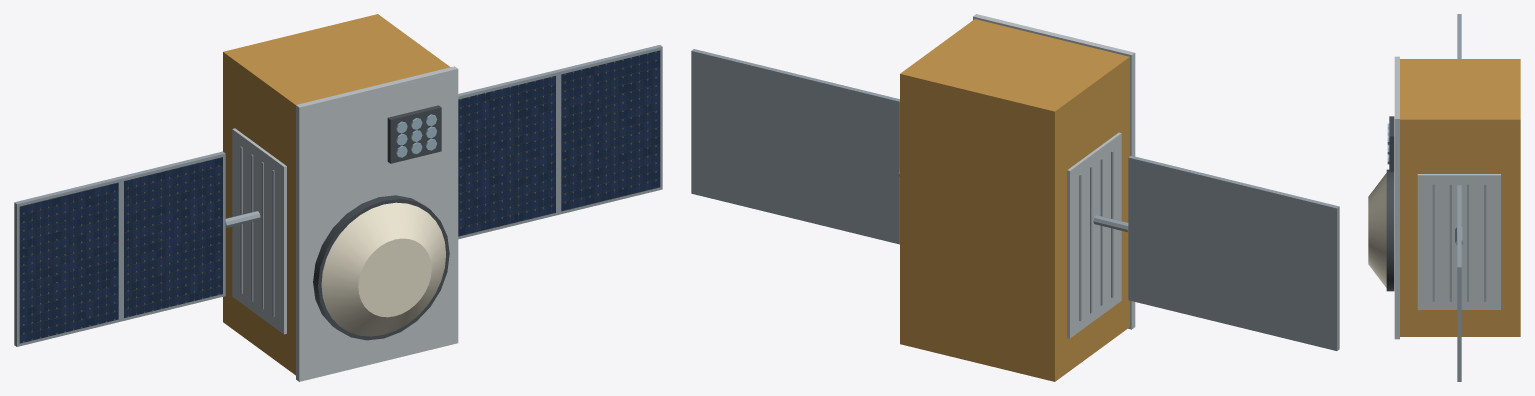
The model's file is glonass-k1.glb.
The picture shows the model from 3 angles, left to right: view 1: azimuth 30°, elevation 25°; view 2: azimuth 150°, elevation 25°; view 3: azimuth 270°, elevation 25°; orthographic projection. The views are drawn at different scales.
Parts seen in each view (by area): view 1: Photovoltaic laminates (×4), Payload deck, Equipment bus, Navigation antenna cover, Radiator, Array frame (×4), Navigation antenna base, Retroreflector panel; view 2: Equipment bus, Array frame (×4), Radiator, Payload deck; view 3: Equipment bus, Radiator, Navigation antenna cover, Payload deck, Radiator channel (×4), Array frame (×3), Navigation antenna base, Retroreflector panel.
Boxes of the visible parts, x1,y1,x2,y2 form: Photovoltaic laminates (×4): (19, 50, 660, 343); Payload deck: (296, 66, 458, 381); Equipment bus: (223, 14, 450, 375); Navigation antenna cover: (321, 202, 445, 336); Radiator: (232, 128, 286, 334); Array frame (×4): (14, 45, 662, 346); Navigation antenna base: (313, 195, 449, 340); Retroreflector panel: (387, 105, 441, 163); Equipment bus: (900, 19, 1129, 381); Array frame (×4): (691, 49, 1339, 350); Radiator: (1067, 132, 1121, 338); Payload deck: (973, 14, 1135, 329); Equipment bus: (1400, 59, 1520, 336); Radiator: (1417, 174, 1500, 309); Navigation antenna cover: (1368, 173, 1386, 287); Payload deck: (1394, 56, 1399, 339); Radiator channel (×4): (1432, 184, 1486, 301); Array frame (×3): (1457, 14, 1461, 381); Navigation antenna base: (1386, 169, 1394, 291); Retroreflector panel: (1389, 116, 1394, 171).
Size of the model in its own units: 5 by 2.03 by 1.27.
7 materials, 1 textured.
